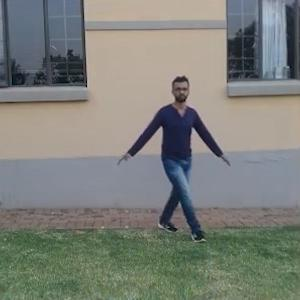land: (117, 73, 239, 234)
